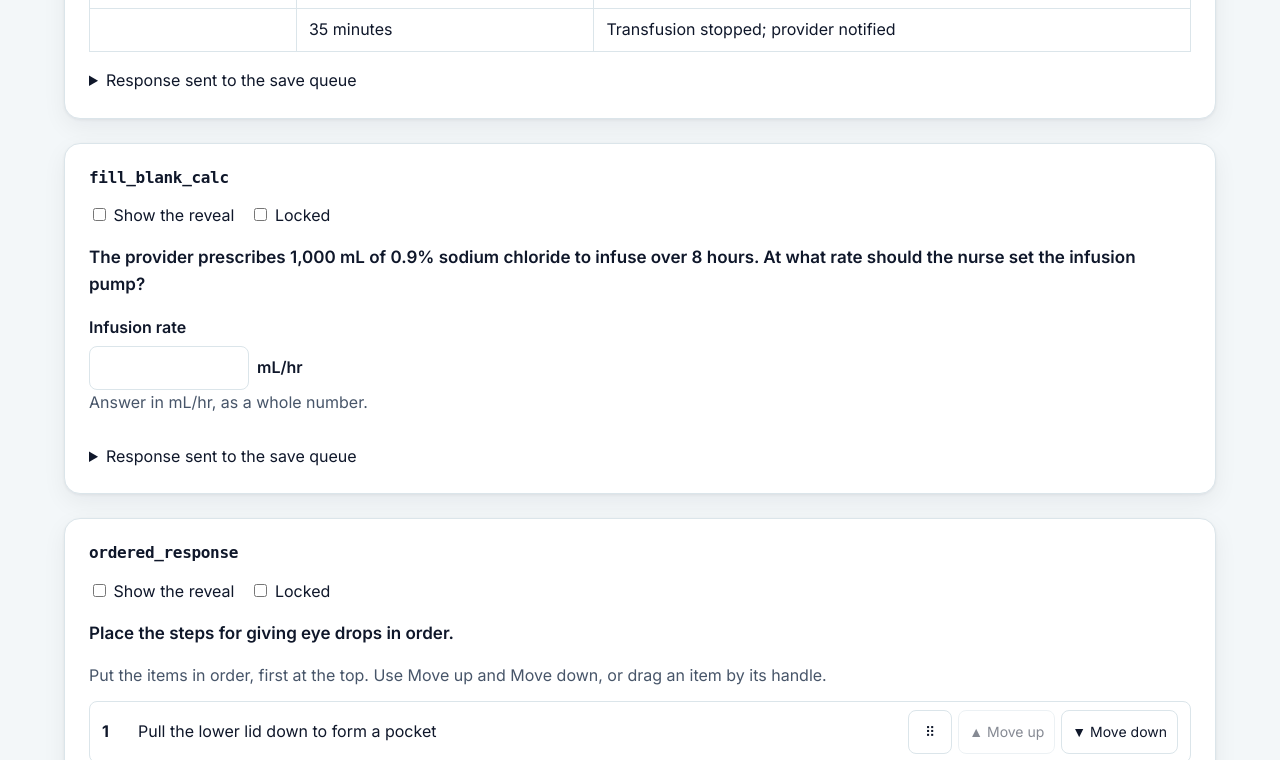
Test case: shows the response a renderer sends and the reveal on request
The image size is (1280, 760).
(page scrolled)
In the field labelled "Infusion rate": (169, 368) [89, 346, 249, 390], type "125"
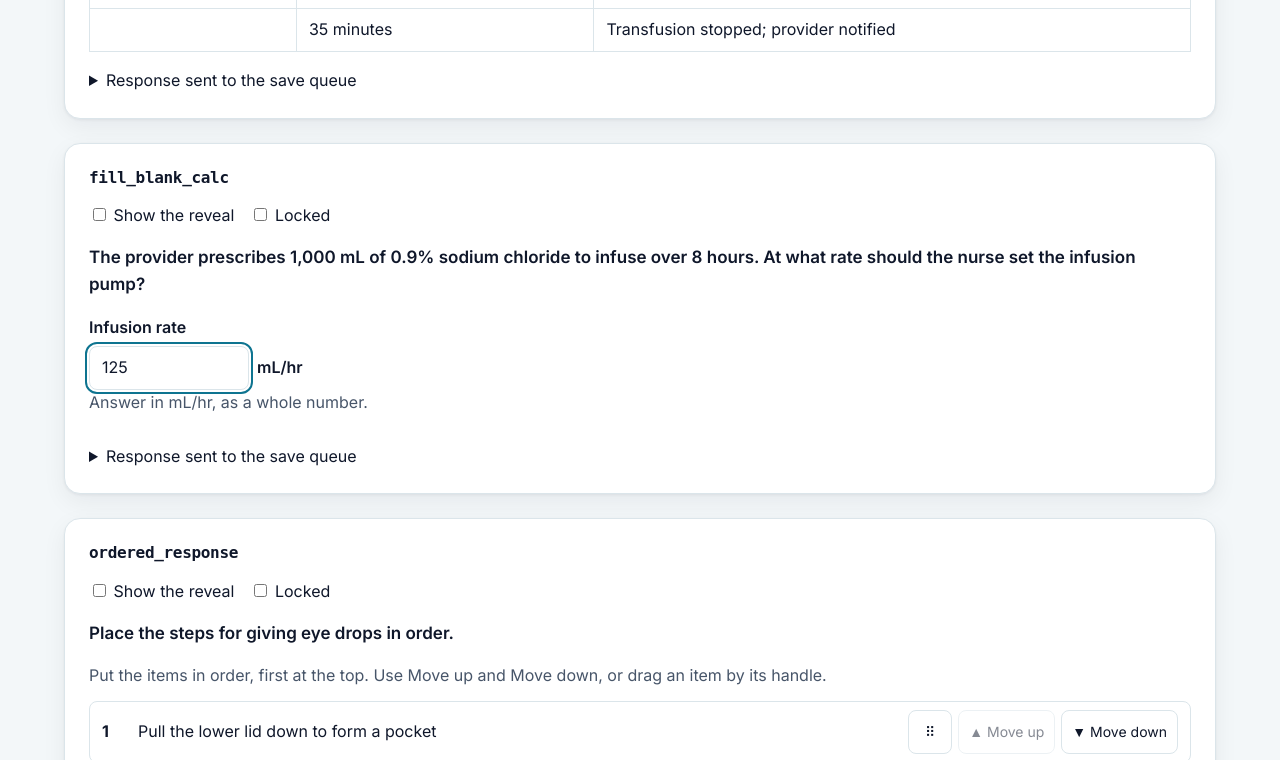
Click the 1st checkbox labelled "Show the reveal": (100, 214) [93, 208, 106, 221]
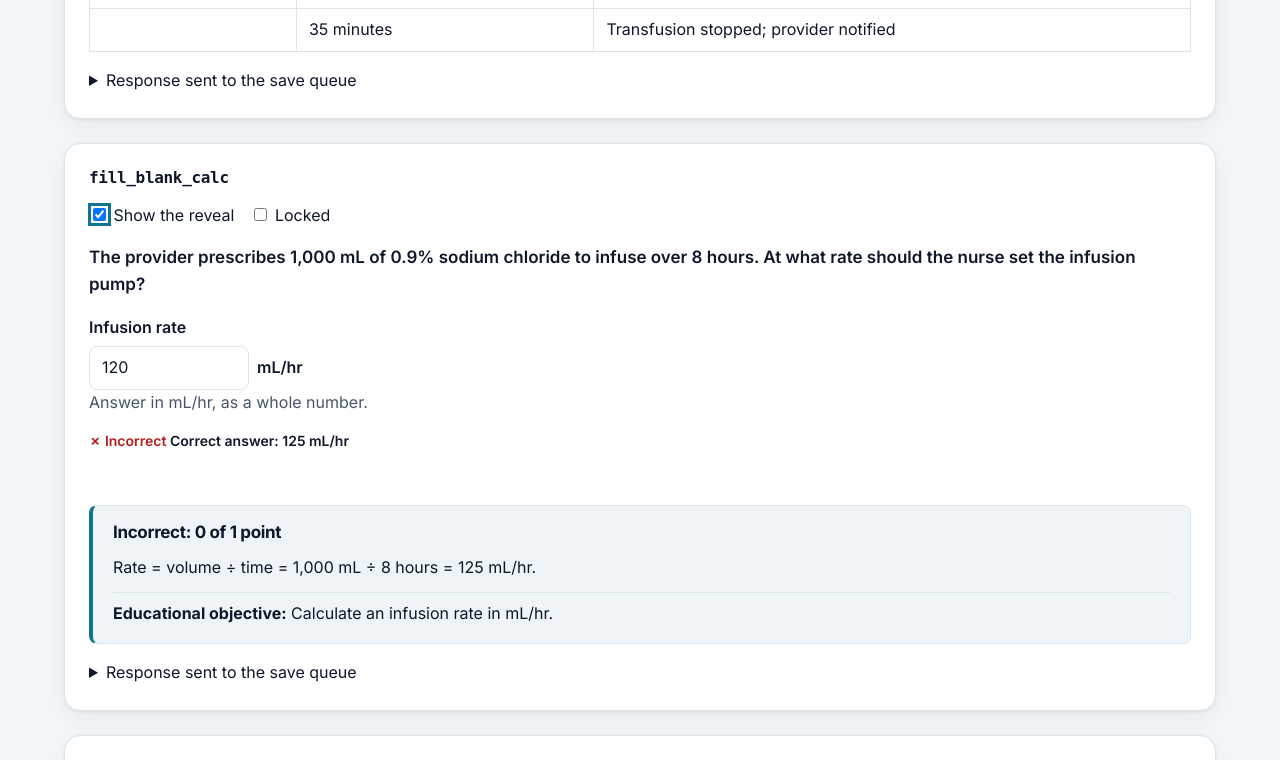
expect the text "Correct answer: 125 mL/hr" is shown: met, box [166, 432, 349, 449]
expect the element named "Rationale" is shown: met, box [89, 505, 1191, 644]
